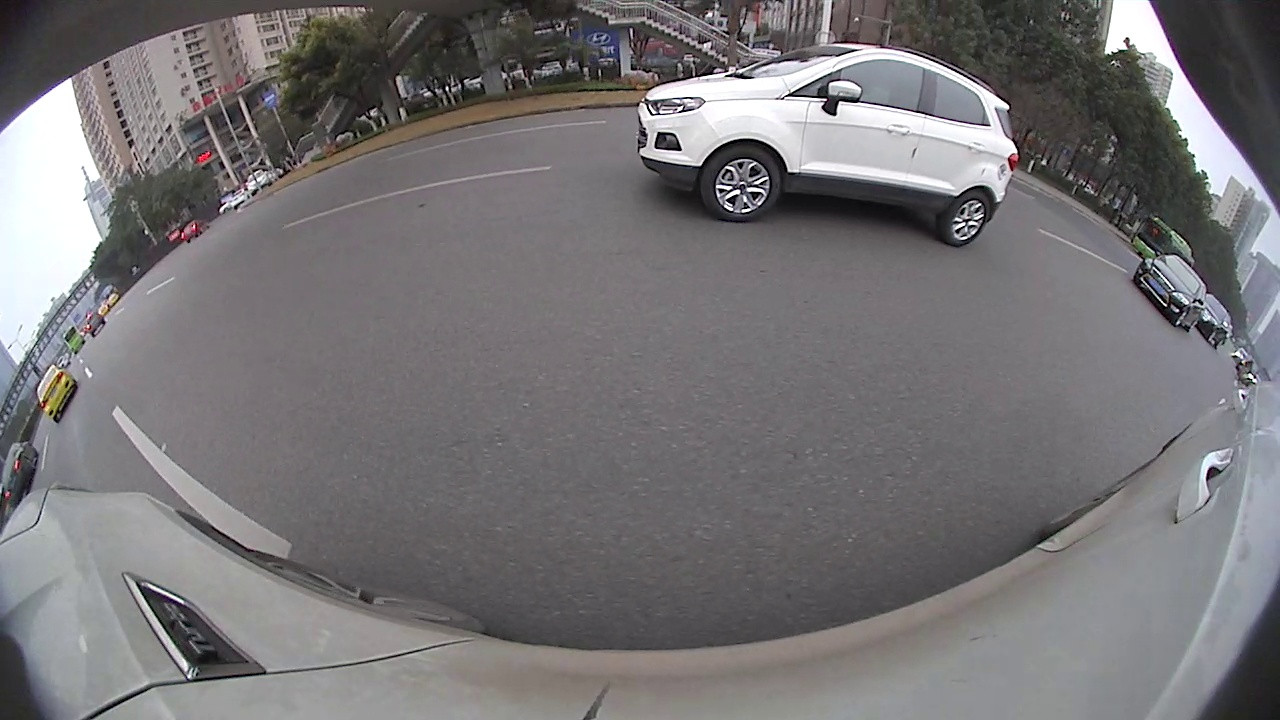bus: (902, 1, 1278, 447)
car: (364, 129, 531, 246), (528, 129, 678, 236), (747, 149, 885, 229), (679, 158, 746, 198), (867, 170, 905, 221)
front: (942, 223, 1030, 327), (518, 184, 532, 212)
rear: (469, 190, 490, 231), (776, 190, 796, 218)
